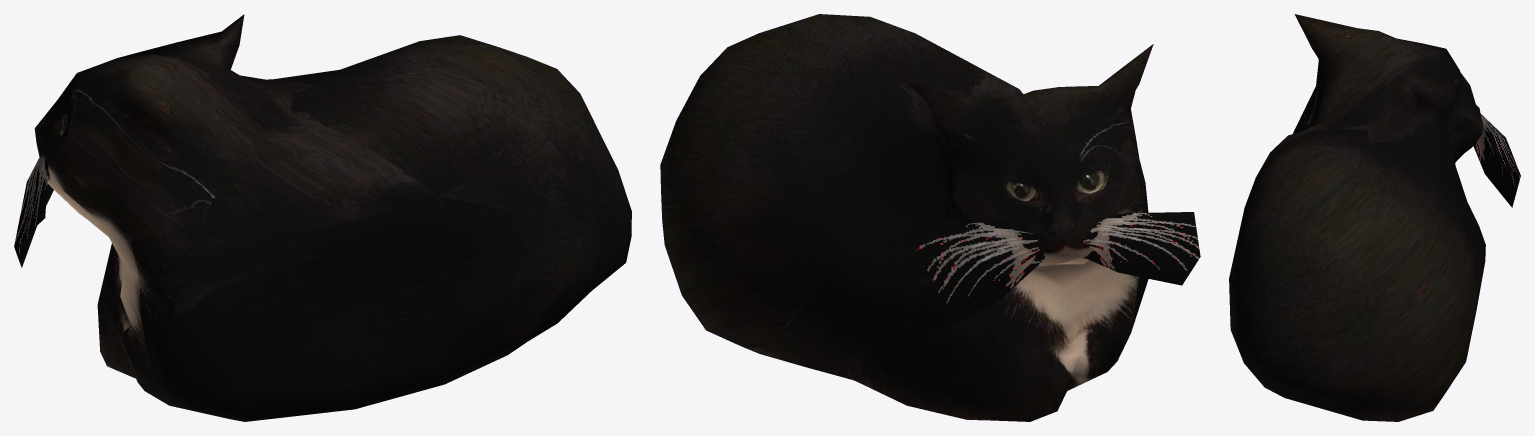
Rendered from maxwell.obj.
3 views of the same model, side by side, from view 1: azimuth 30°, elevation 25°; view 2: azimuth 150°, elevation 25°; view 3: azimuth 270°, elevation 25° (orthographic). The views are drawn at different scales.
Visible parts, largest first — view 1: dingus_dingus_0_dingus_dingus_0.001, dingus_whiskers_0_dingus_whiskers_0.001; view 2: dingus_dingus_0_dingus_dingus_0.001, dingus_whiskers_0_dingus_whiskers_0.001; view 3: dingus_dingus_0_dingus_dingus_0.001, dingus_whiskers_0_dingus_whiskers_0.001.
Boxes of the visible parts, x1,y1,x2,y2 form: dingus_dingus_0_dingus_dingus_0.001: (34, 14, 631, 421); dingus_whiskers_0_dingus_whiskers_0.001: (14, 153, 53, 267); dingus_dingus_0_dingus_dingus_0.001: (660, 14, 1153, 421); dingus_whiskers_0_dingus_whiskers_0.001: (907, 212, 1200, 327); dingus_dingus_0_dingus_dingus_0.001: (1229, 14, 1485, 421); dingus_whiskers_0_dingus_whiskers_0.001: (1473, 114, 1520, 207).
Size of the model in its own units: 1.93 by 1.11 by 1.09.
